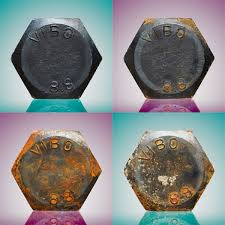rust: (9, 130, 105, 214), (129, 182, 200, 212), (201, 154, 218, 188), (174, 17, 202, 33), (163, 78, 189, 95), (155, 134, 180, 151), (143, 17, 156, 25)
